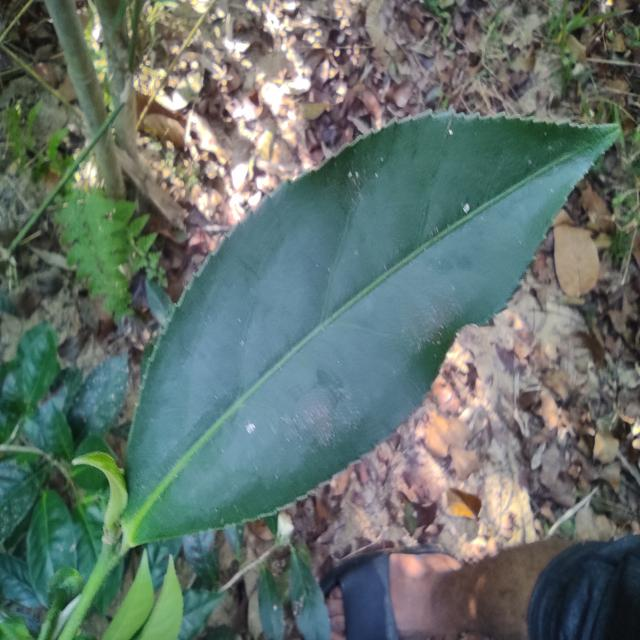Category D(7+ days, Not for Tea): (114, 79, 625, 572)
